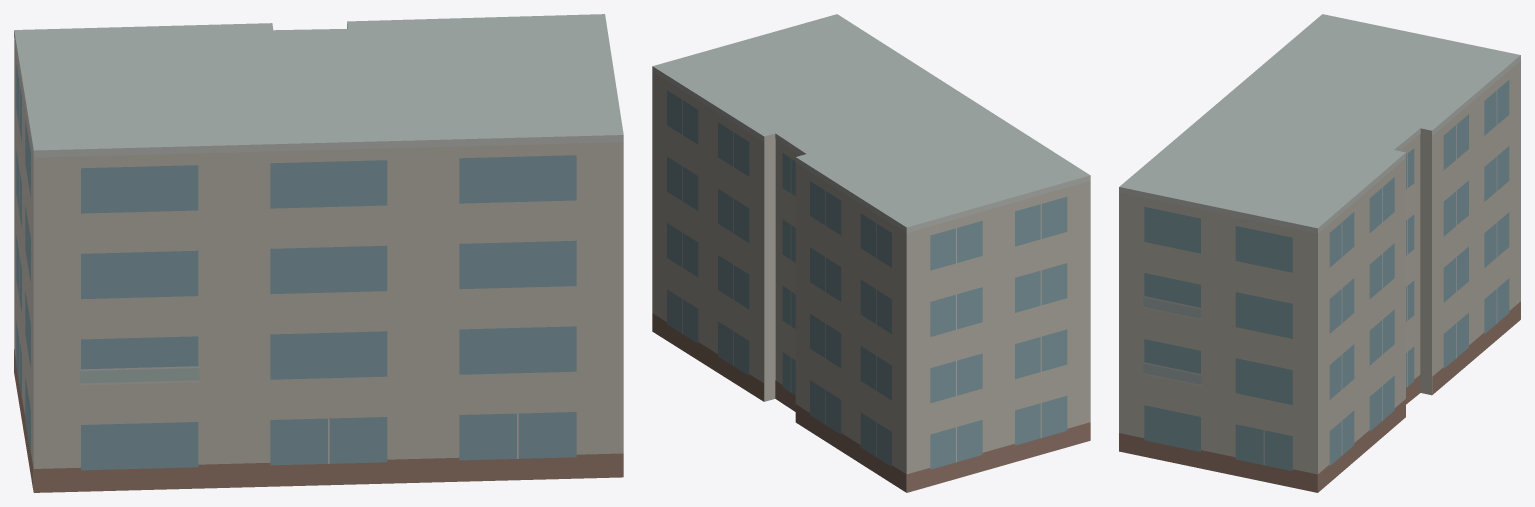
The model's file is survey-upis-32941084.glb.
3 renders of one model, left to right at view 1: azimuth 30°, elevation 25°; view 2: azimuth 150°, elevation 25°; view 3: azimuth 270°, elevation 25°, orthographic. The views are drawn at different scales.
Parts seen in each view (by area): view 1: survey-upis-32941084.tmp; view 2: survey-upis-32941084.tmp; view 3: survey-upis-32941084.tmp.
Boxes of the visible parts, x1,y1,x2,y2 form: survey-upis-32941084.tmp: (14, 14, 623, 492); survey-upis-32941084.tmp: (652, 14, 1090, 492); survey-upis-32941084.tmp: (1119, 14, 1520, 492).
Size of the model in its own units: 20.33 by 11.7 by 16.11.
